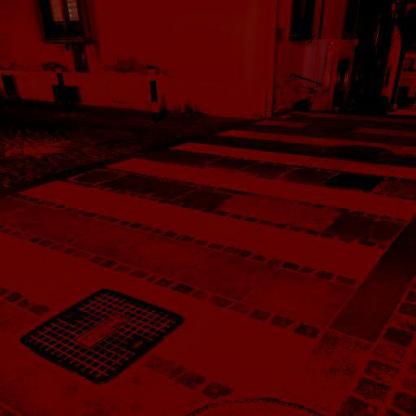crosswalk: (9, 154, 416, 290)
